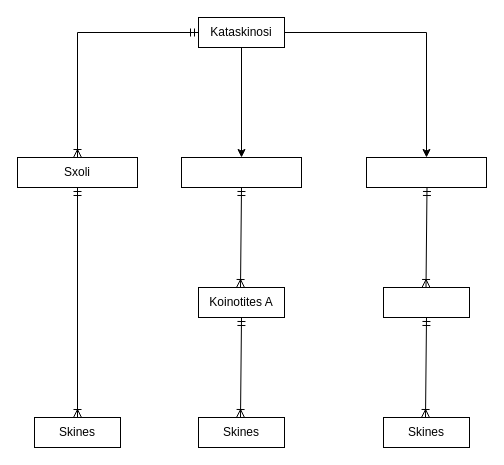
The diagram is 504 pixels wide and 465 high, and some of its shapes have lost their labels. Each missing label, with the centre of its shape:
Koinotites B: [426,302]
Tomeas A: [241,172]
Tomeas B: [426,172]
